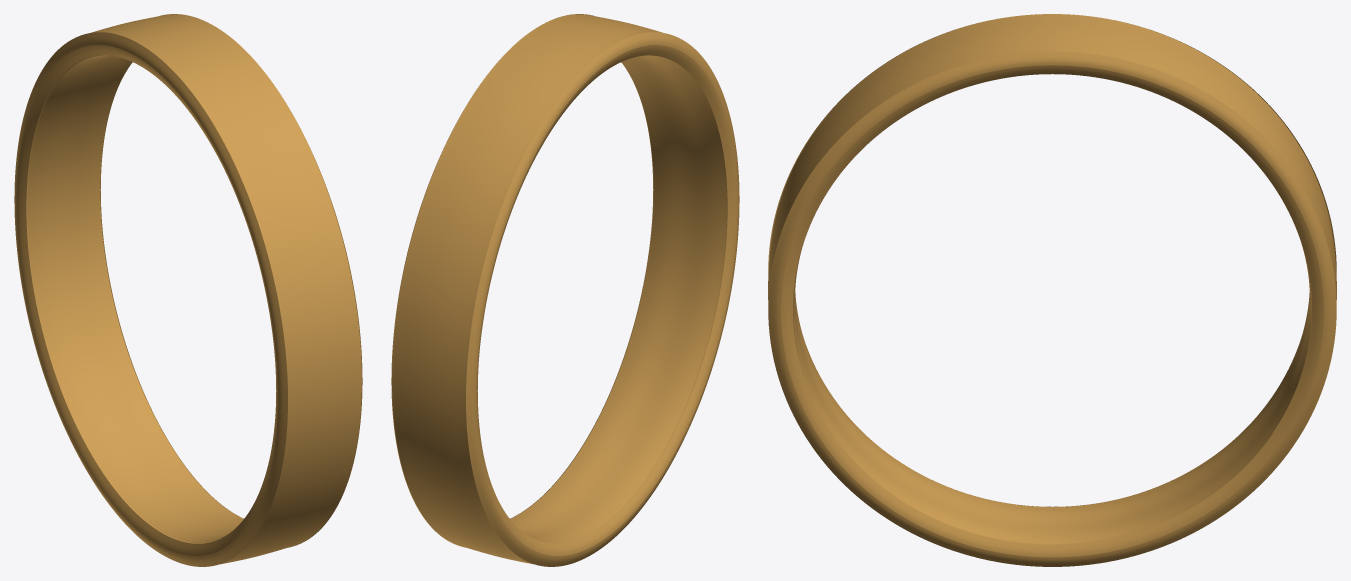
3 renders of one model, left to right at view 1: azimuth 30°, elevation 25°; view 2: azimuth 150°, elevation 25°; view 3: azimuth 270°, elevation 25°, orthographic. The views are drawn at different scales.
Visible parts, largest first — view 1: P6-Outer, P6-Inner, P6-Sides; view 2: P6-Outer, P6-Inner, P6-Sides; view 3: P6-Sides, P6-Outer, P6-Inner.
Part boxes in pixels (x1,y1,x2,y2): P6-Outer: (26, 14, 361, 564); P6-Inner: (27, 55, 243, 543); P6-Sides: (14, 14, 362, 566); P6-Outer: (392, 14, 727, 564); P6-Inner: (510, 55, 726, 543); P6-Sides: (391, 14, 739, 566); P6-Sides: (768, 14, 1336, 566); P6-Outer: (768, 14, 1336, 544); P6-Inner: (793, 143, 1311, 543).
Bounding box in the file's own units: 0.00399 × 0.023 × 0.023.
